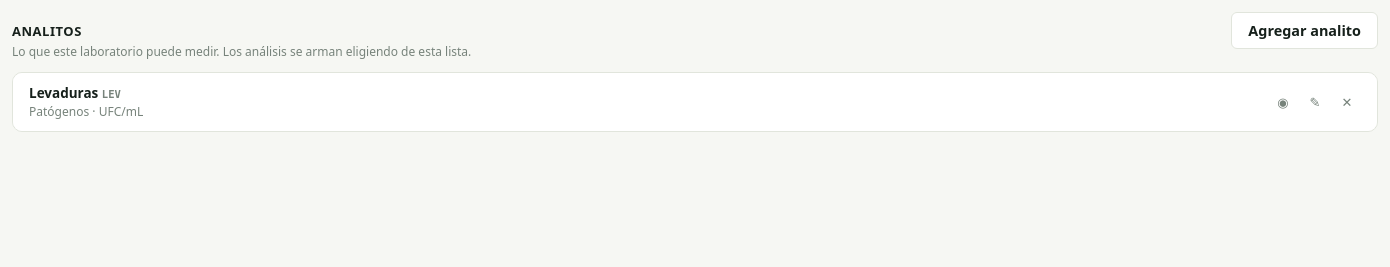
Scenario: AnalitosPanel › al editar, precarga el checkbox "Lleva dosis" con el valor guardado del analito
Click the button titled "Editar": click(1315, 102) x1=1301 y1=88 x2=1329 y2=116
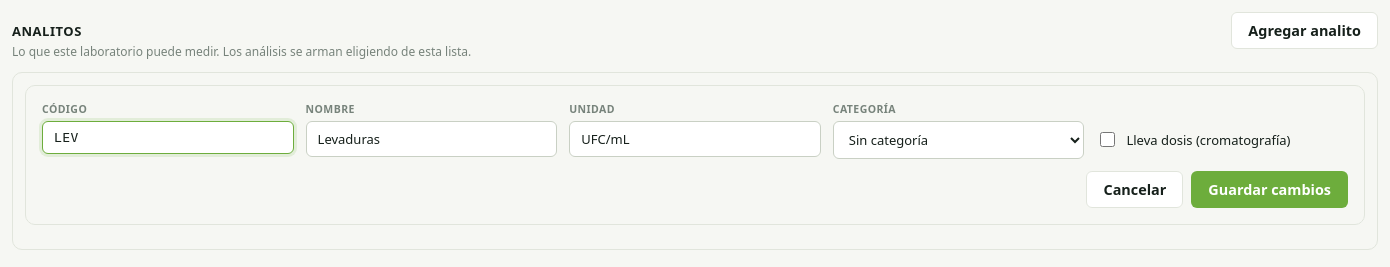
Now the checkbox labelled "Lleva dosis (cromatografía)" is not checked, box x1=1100 y1=132 x2=1115 y2=147
